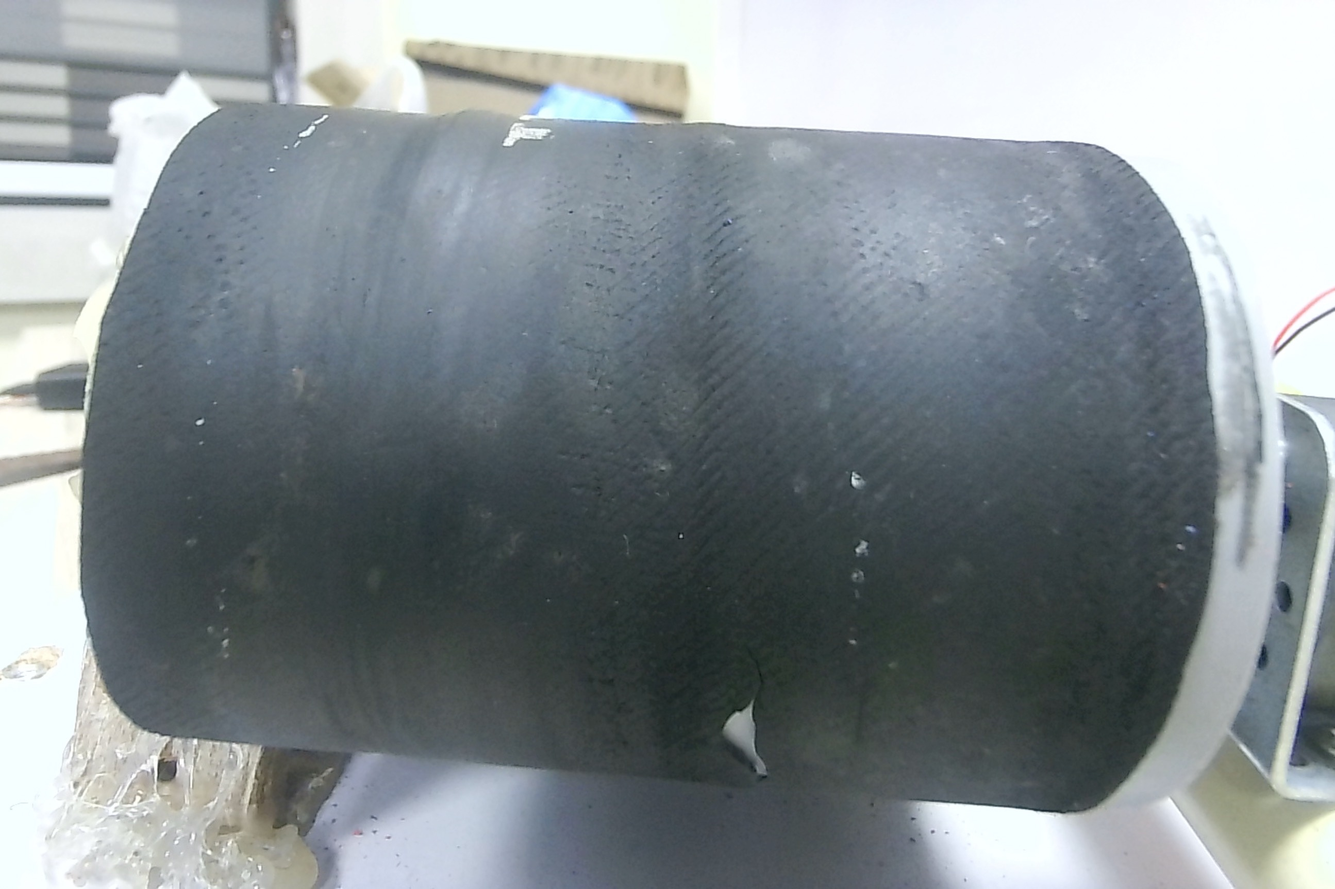tear: (698, 660, 787, 796)
